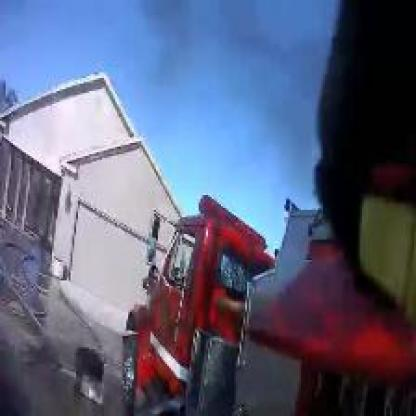other: (142, 191, 251, 364), (294, 272, 386, 364)
